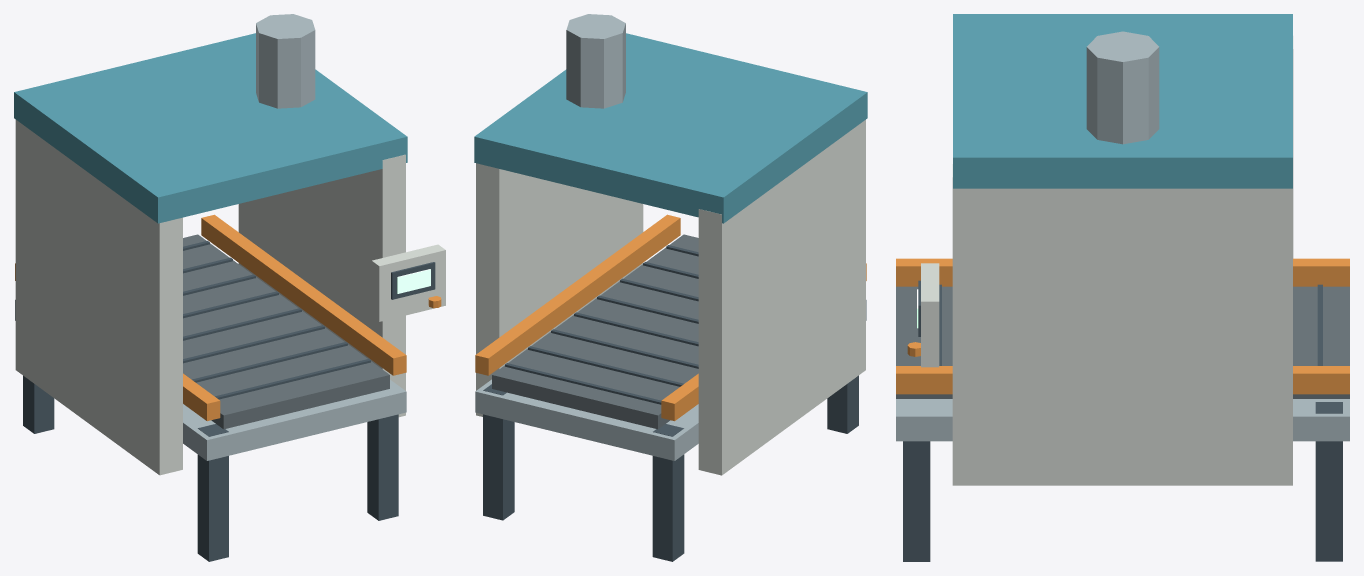
The model's file is enclosed-washing-conveyor.glb.
3 renders of one model, left to right at view 1: azimuth 30°, elevation 25°; view 2: azimuth 150°, elevation 25°; view 3: azimuth 270°, elevation 25°, orthographic. The views are drawn at different scales.
Parts seen in each view (by area): view 1: cream, blue, rubber, dark, steel, orange, light; view 2: cream, blue, rubber, dark, steel, orange; view 3: cream, blue, steel, dark, rubber, orange.
Part boxes in pixels (x1,y1,x2,y2): cream: [15, 120, 445, 475]; blue: [14, 33, 407, 223]; rubber: [183, 234, 389, 429]; dark: [23, 240, 435, 561]; steel: [15, 14, 406, 460]; orange: [15, 214, 441, 421]; light: [397, 269, 430, 293]; cream: [476, 120, 865, 475]; blue: [474, 33, 867, 223]; rubber: [492, 234, 698, 429]; dark: [483, 245, 858, 561]; steel: [475, 14, 866, 460]; orange: [475, 214, 866, 421]; cream: [921, 36, 1293, 485]; blue: [953, 14, 1292, 188]; steel: [896, 31, 1349, 441]; dark: [903, 280, 1342, 561]; rubber: [896, 286, 1349, 398]; orange: [896, 258, 1349, 394].
Size of the model in its own units: 1.65 by 2.45 by 2.
